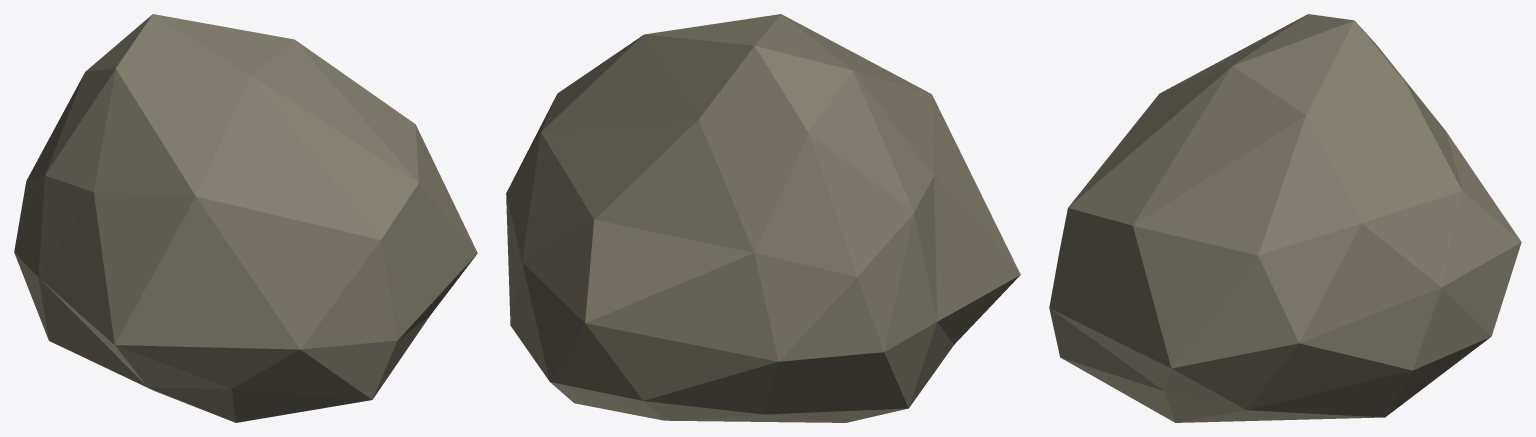
File: Asteroid_2.fbx
3 renders of one model, left to right at view 1: azimuth 30°, elevation 25°; view 2: azimuth 150°, elevation 25°; view 3: azimuth 270°, elevation 25°, orthographic. The views are drawn at different scales.
Parts seen in each view (by area): view 1: Icosphere; view 2: Icosphere; view 3: Icosphere.
Boxes of the visible parts, x1,y1,x2,y2 form: Icosphere: [14, 14, 477, 422]; Icosphere: [506, 14, 1020, 422]; Icosphere: [1049, 14, 1521, 422].
Bounding box in the file's own units: 289 × 262 × 314.
